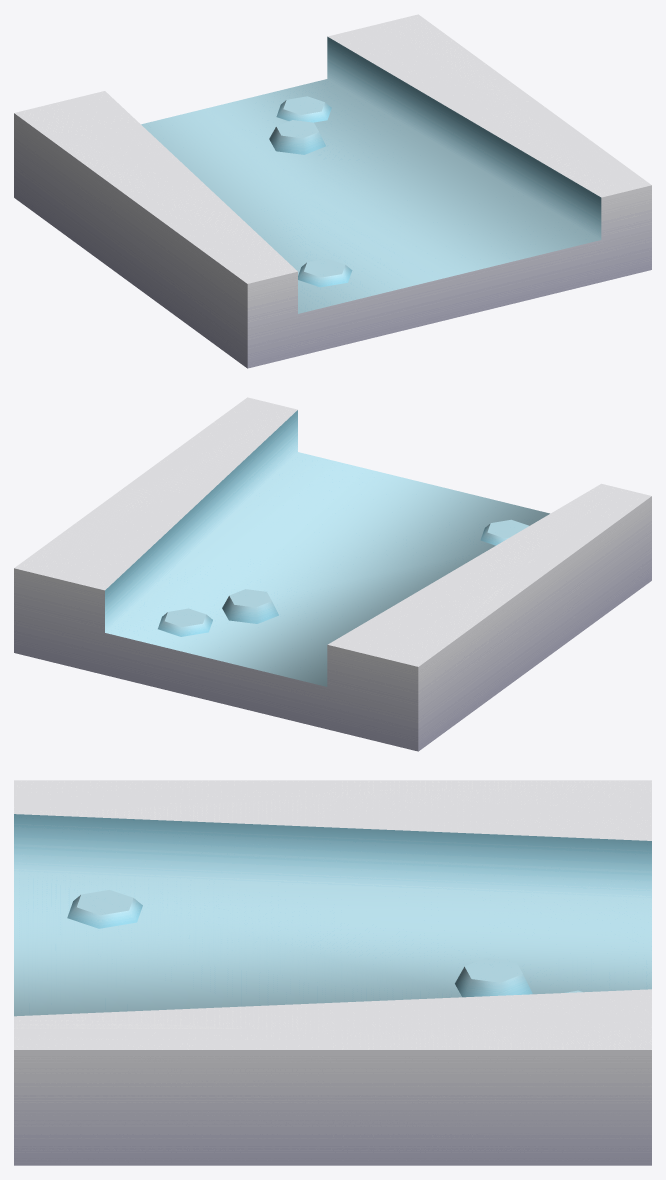
Rendered from snow_tile_transition.glb.
3 renders of one model, top to bottom at view 1: azimuth 30°, elevation 25°; view 2: azimuth 150°, elevation 25°; view 3: azimuth 270°, elevation 25°, orthographic. The views are drawn at different scales.
Visible parts, largest first — view 1: snow-tile-transition; view 2: snow-tile-transition; view 3: snow-tile-transition.
Part boxes in pixels (box(x1,y1,x2,y2)): snow-tile-transition: box(14, 14, 651, 368); snow-tile-transition: box(14, 397, 651, 751); snow-tile-transition: box(14, 780, 651, 1165).
Size of the model in its own units: 1 by 0.2 by 1.
1 material, 1 textured.
